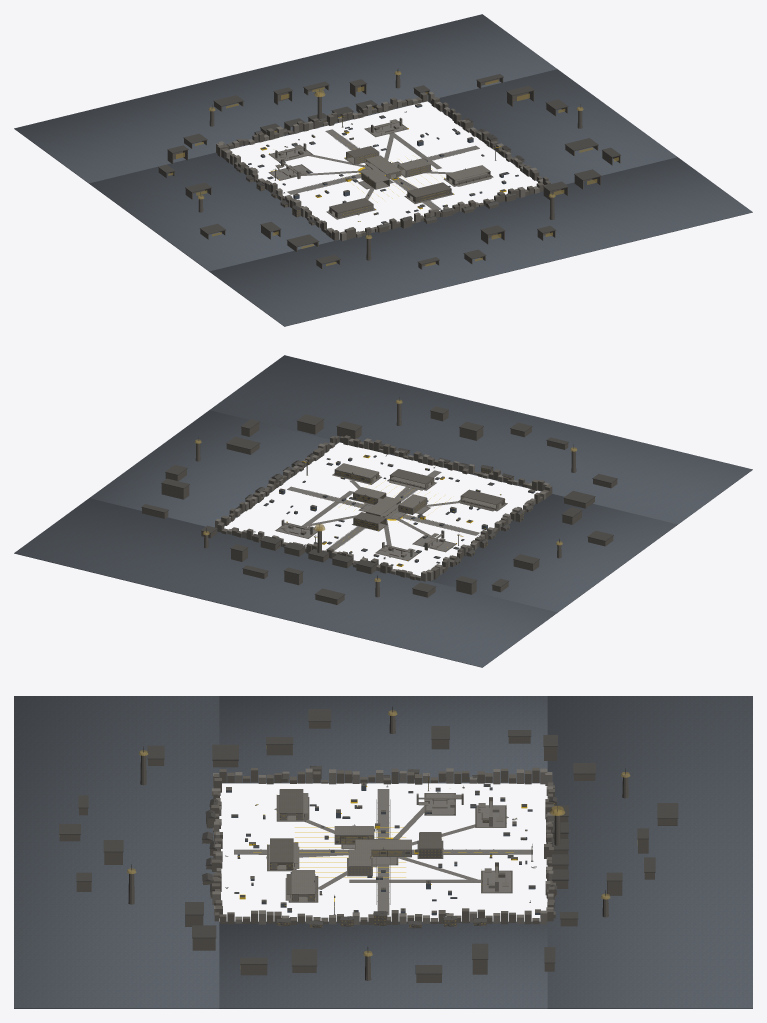
File: kuko-lod0.glb
3 renders of one model, top to bottom at view 1: azimuth 30°, elevation 25°; view 2: azimuth 150°, elevation 25°; view 3: azimuth 270°, elevation 25°, orthographic. The views are drawn at different scales.
Parts seen in each view (by area): view 1: HB_kuko_LOD0_terrain, HB_kuko_LOD0_wall_alt, HB_kuko_LOD0_trim, HB_kuko_LOD0_wall, HB_kuko_LOD0_road, HB_kuko_LOD0_glass, HB_kuko_LOD0_obstacle; view 2: HB_kuko_LOD0_terrain, HB_kuko_LOD0_wall_alt, HB_kuko_LOD0_trim, HB_kuko_LOD0_wall, HB_kuko_LOD0_road, HB_kuko_LOD0_glass, HB_kuko_LOD0_obstacle; view 3: HB_kuko_LOD0_terrain, HB_kuko_LOD0_wall_alt, HB_kuko_LOD0_trim, HB_kuko_LOD0_wall, HB_kuko_LOD0_road, HB_kuko_LOD0_glass, HB_kuko_LOD0_accent, HB_kuko_LOD0_obstacle.
Part boxes in pixels (bbox=[...]): HB_kuko_LOD0_terrain: bbox=[14, 14, 752, 326]; HB_kuko_LOD0_wall_alt: bbox=[158, 73, 620, 269]; HB_kuko_LOD0_trim: bbox=[158, 68, 620, 264]; HB_kuko_LOD0_wall: bbox=[216, 91, 542, 241]; HB_kuko_LOD0_road: bbox=[257, 112, 496, 221]; HB_kuko_LOD0_glass: bbox=[168, 71, 618, 266]; HB_kuko_LOD0_obstacle: bbox=[248, 105, 518, 224]; HB_kuko_LOD0_terrain: bbox=[14, 355, 752, 667]; HB_kuko_LOD0_wall_alt: bbox=[142, 402, 617, 604]; HB_kuko_LOD0_trim: bbox=[141, 397, 617, 599]; HB_kuko_LOD0_wall: bbox=[215, 438, 549, 581]; HB_kuko_LOD0_road: bbox=[253, 455, 507, 561]; HB_kuko_LOD0_glass: bbox=[194, 399, 577, 581]; HB_kuko_LOD0_obstacle: bbox=[232, 456, 535, 565]; HB_kuko_LOD0_terrain: bbox=[14, 696, 752, 1008]; HB_kuko_LOD0_wall_alt: bbox=[59, 713, 677, 982]; HB_kuko_LOD0_trim: bbox=[59, 706, 678, 974]; HB_kuko_LOD0_wall: bbox=[212, 768, 554, 924]; HB_kuko_LOD0_road: bbox=[225, 786, 535, 915]; HB_kuko_LOD0_glass: bbox=[59, 710, 644, 969]; HB_kuko_LOD0_accent: bbox=[238, 778, 527, 911]; HB_kuko_LOD0_obstacle: bbox=[226, 784, 540, 915].
Bounding box in the file's own units: 756 × 53.8 × 756.
Materials: 9 (8 with a texture image).
